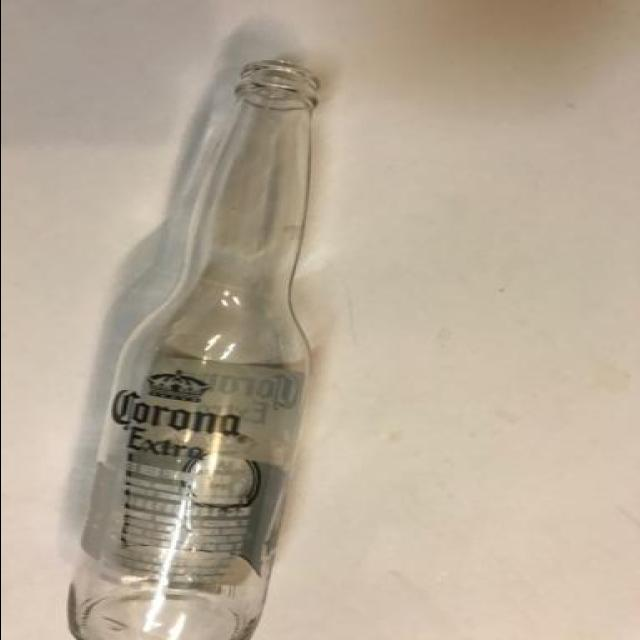glass: (62, 61, 321, 640)
